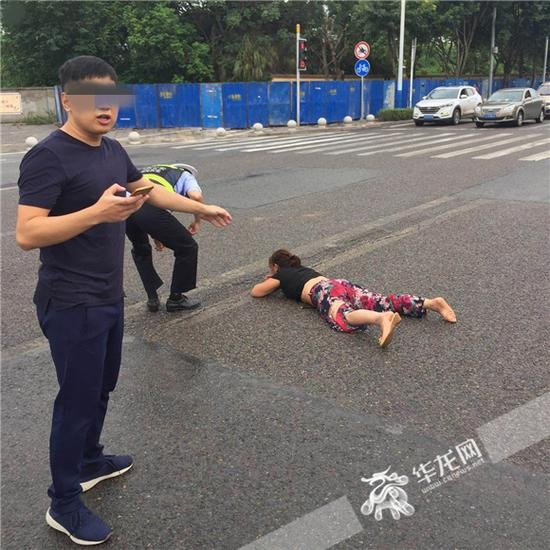falling: (242, 238, 465, 352)
